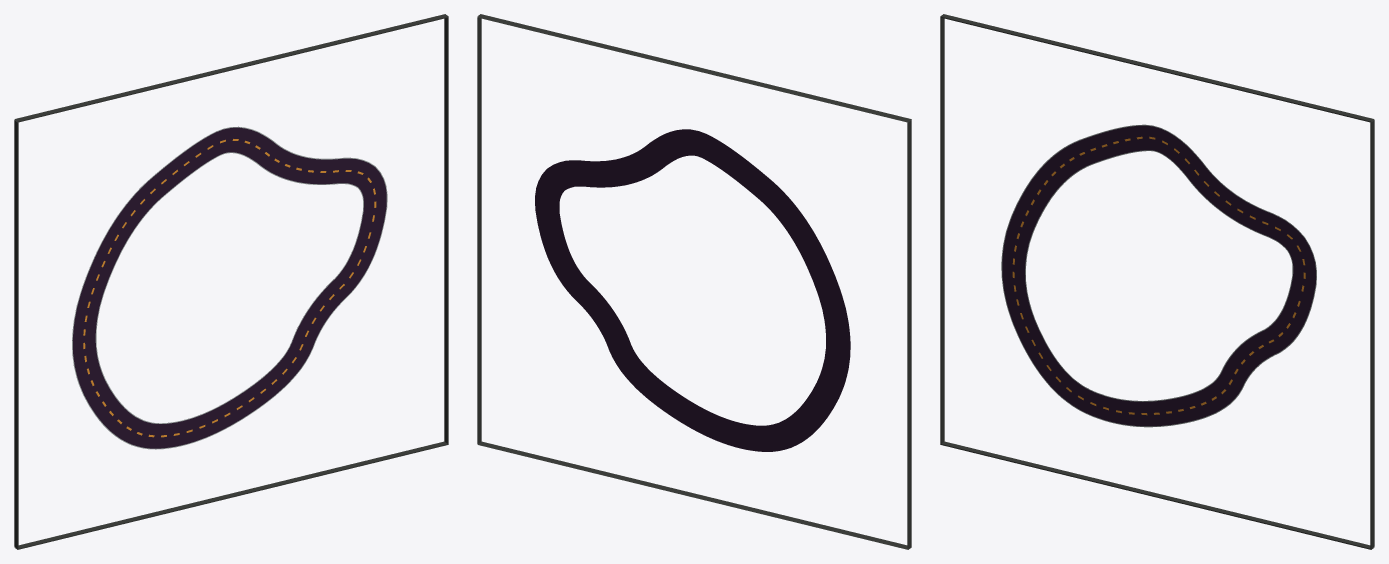
File: track.obj
3 renders of one model, left to right at view 1: azimuth 30°, elevation 25°; view 2: azimuth 150°, elevation 25°; view 3: azimuth 330°, elevation 25°, orthographic.
Bounding box in the file's own units: 21.82 × 20.71 × 0.3.
4 materials, 4 textured.
